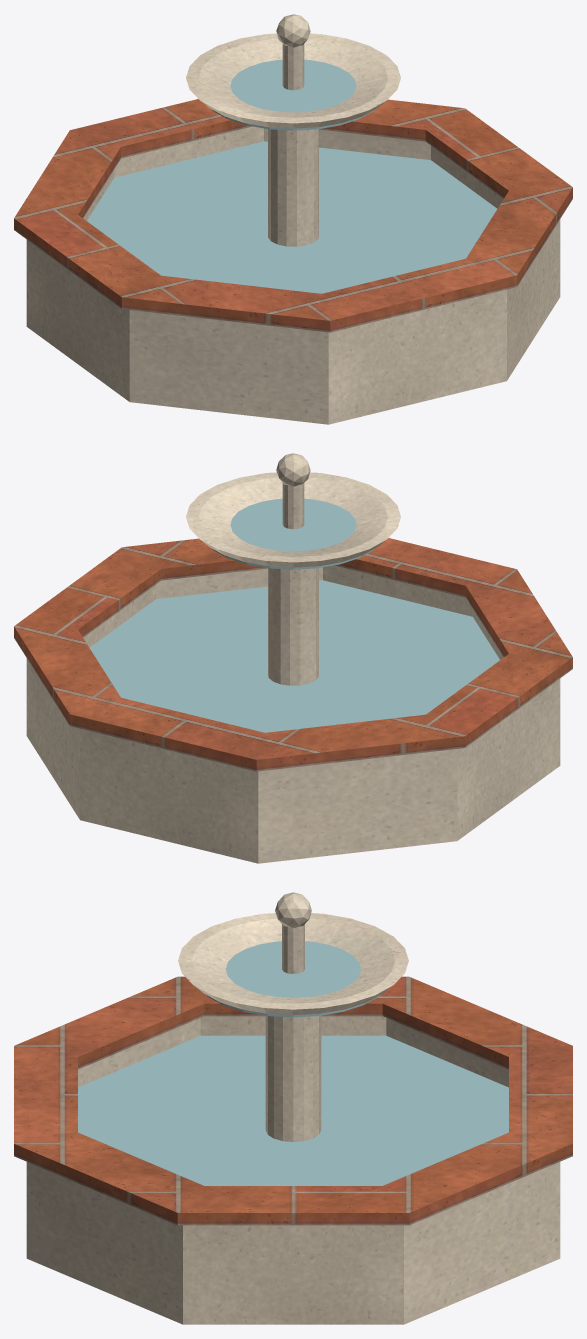
Rendered from fountain.glb.
3 renders of one model, top to bottom at view 1: azimuth 30°, elevation 25°; view 2: azimuth 150°, elevation 25°; view 3: azimuth 270°, elevation 25°, orthographic. The views are drawn at different scales.
Parts seen in each view (by area): view 1: fountain_render, fountain_saltillo, fountain_water; view 2: fountain_render, fountain_saltillo, fountain_water; view 3: fountain_render, fountain_water, fountain_saltillo.
Part boxes in pixels (box(x1,y1,x2,y2)): fountain_render: box(26, 14, 560, 424); fountain_saltillo: box(14, 99, 572, 332); fountain_water: box(87, 59, 497, 293); fountain_render: box(26, 453, 560, 863); fountain_saltillo: box(14, 538, 572, 771); fountain_water: box(89, 498, 499, 732); fountain_render: box(26, 892, 560, 1324); fountain_water: box(78, 941, 508, 1185); fountain_saltillo: box(14, 976, 572, 1225).
Bounding box in the file's own units: 2.42 × 1.52 × 2.42.
3 materials, 2 textured.
